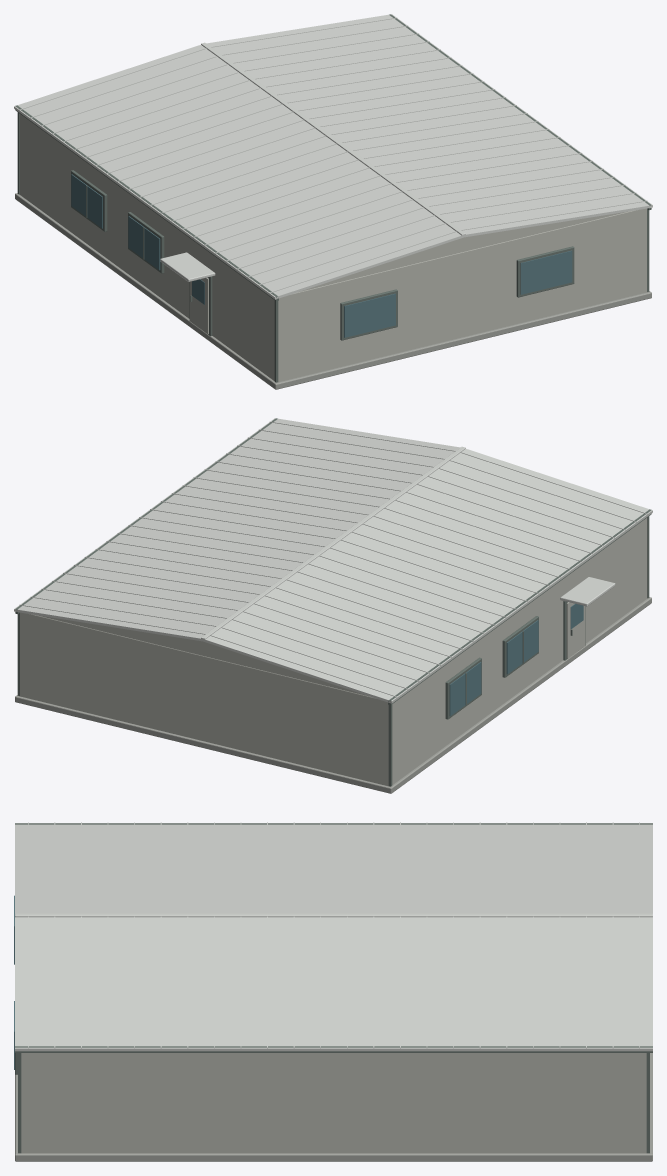
File: SM_Golf_NorthFacility_01.fbx
The picture shows the model from 3 angles, top to bottom: view 1: azimuth 30°, elevation 25°; view 2: azimuth 150°, elevation 25°; view 3: azimuth 270°, elevation 25°; orthographic projection. The views are drawn at different scales.
Parts seen in each view (by area): view 1: SM_Golf_NorthFacility_01; view 2: SM_Golf_NorthFacility_01; view 3: SM_Golf_NorthFacility_01.
Boxes of the visible parts, x1,y1,x2,y2 form: SM_Golf_NorthFacility_01: [14, 14, 652, 389]; SM_Golf_NorthFacility_01: [14, 418, 652, 793]; SM_Golf_NorthFacility_01: [14, 822, 652, 1161].
Size of what is drawn, in the model's own units: 17.11 by 19.23 by 4.48.
